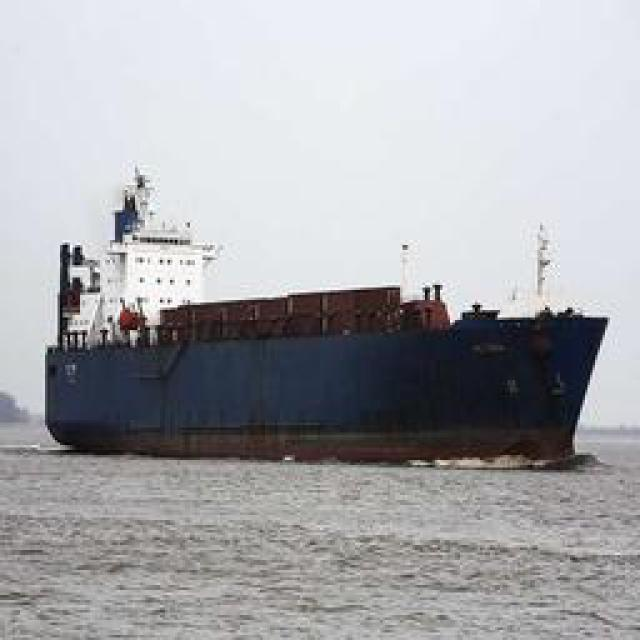Ship: (51, 246, 616, 461)
